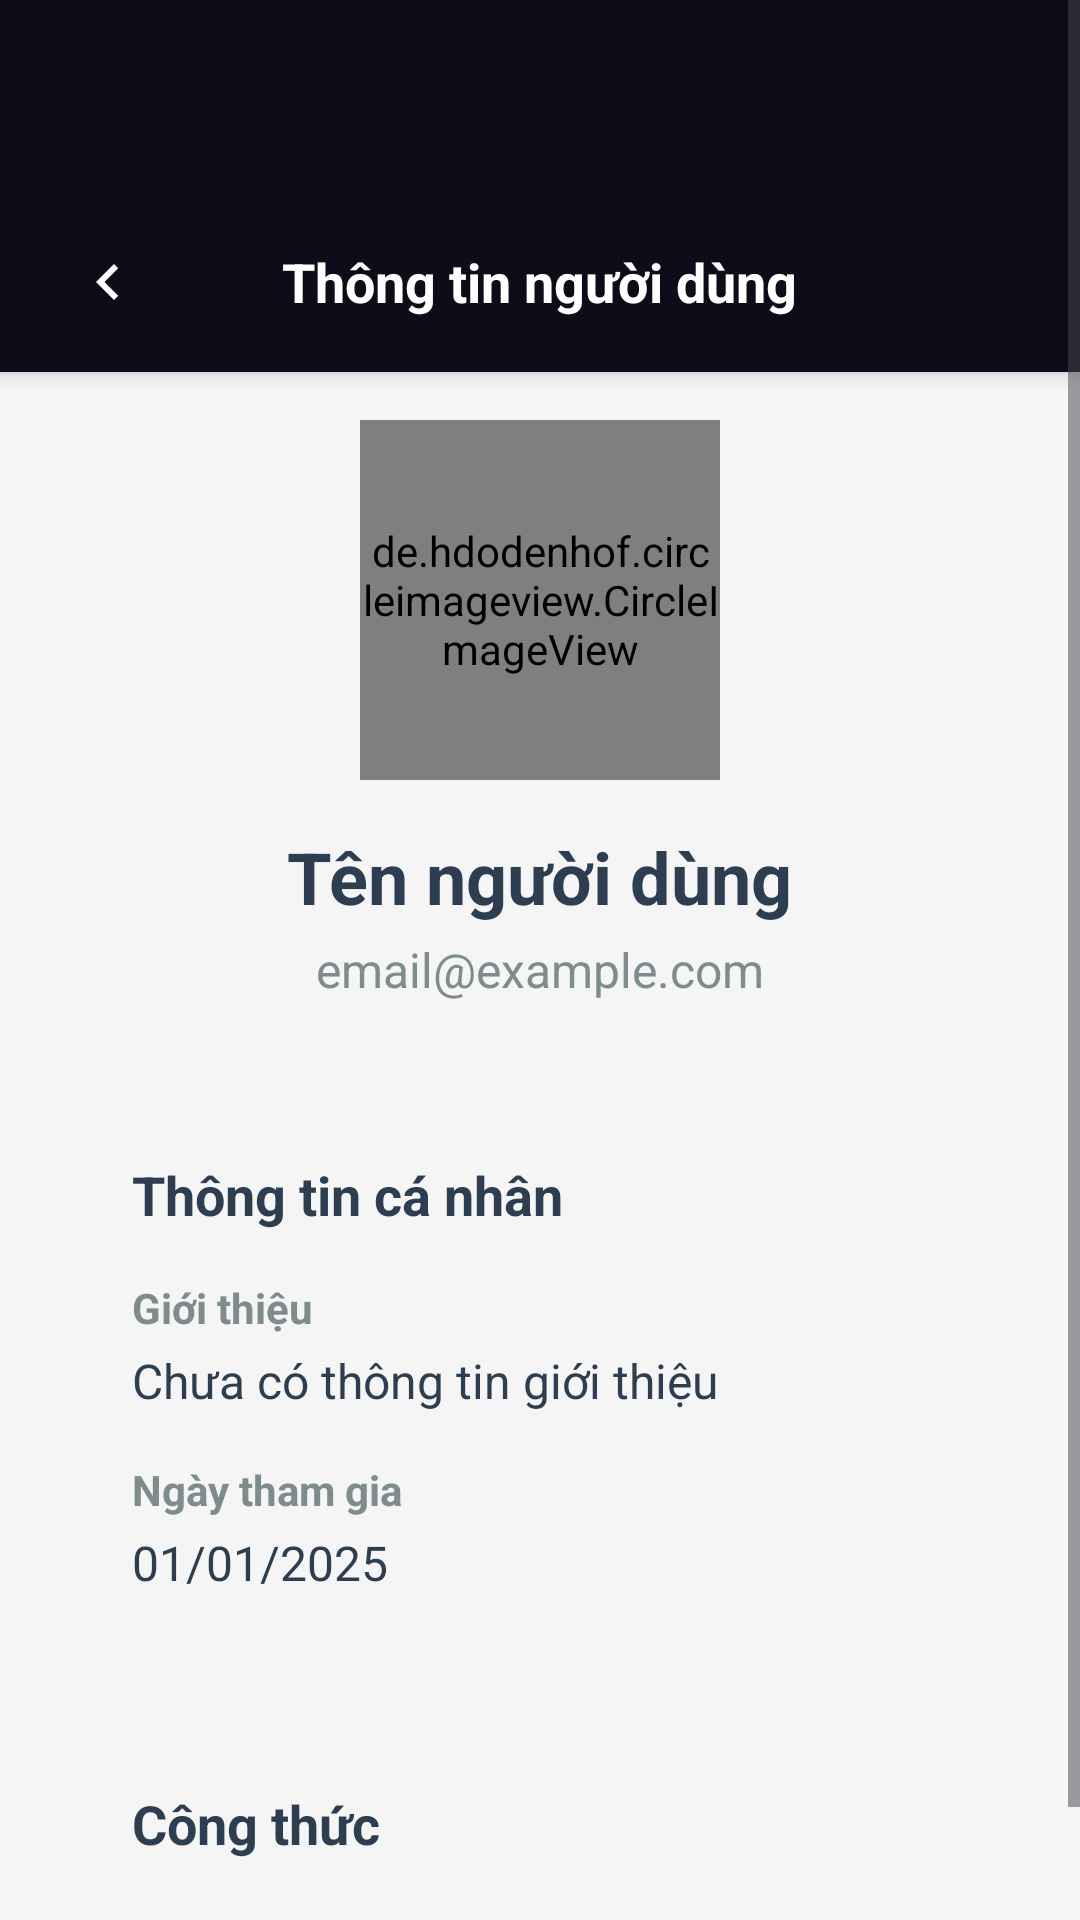

Icons on this 1080*1920 Android screen, each with the point to tap as (x=x, y=y):
arrow back: (x=107, y=282)
